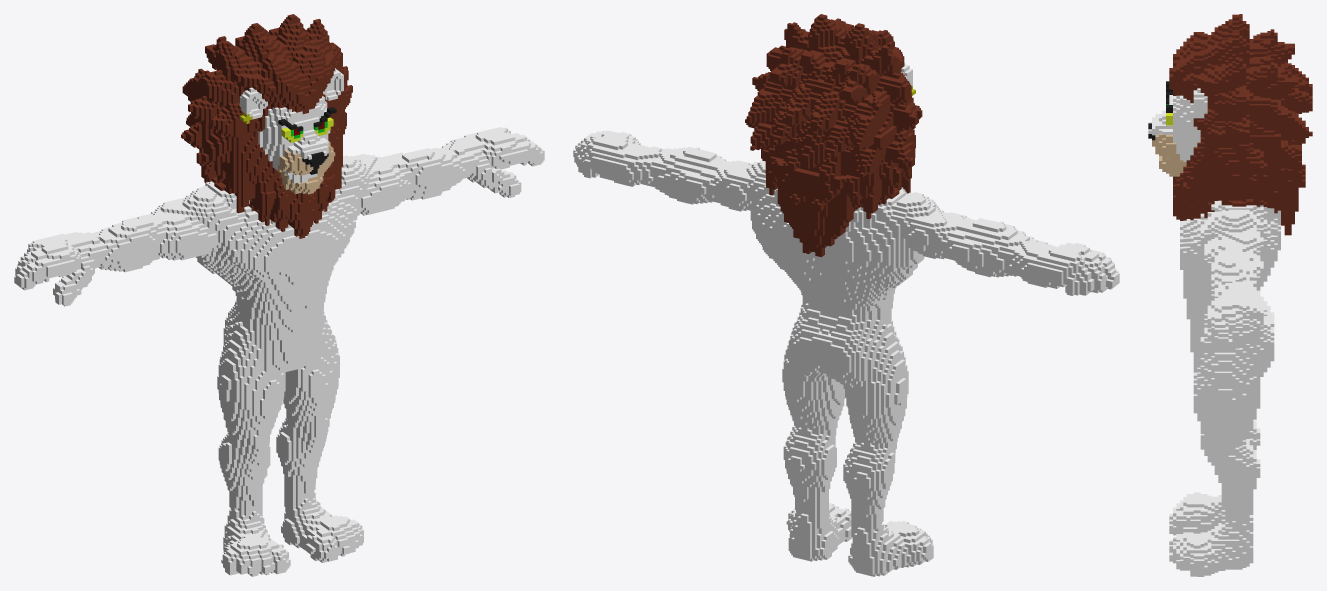
The model's file is 820-Bahh35Xo.glb.
The picture shows the model from 3 angles, left to right: view 1: azimuth 30°, elevation 25°; view 2: azimuth 150°, elevation 25°; view 3: azimuth 270°, elevation 25°; orthographic projection. The views are drawn at different scales.
Parts seen in each view (by area): view 1: grin; view 2: grin; view 3: grin.
Boxes of the visible parts, box(x1,y1,x2,y2) form: grin: box(14, 14, 544, 576); grin: box(573, 14, 1119, 576); grin: box(1148, 14, 1312, 576).
Bounding box in the file's own units: 17.2 × 16.5 × 4.7.
5 materials, 5 textured.
